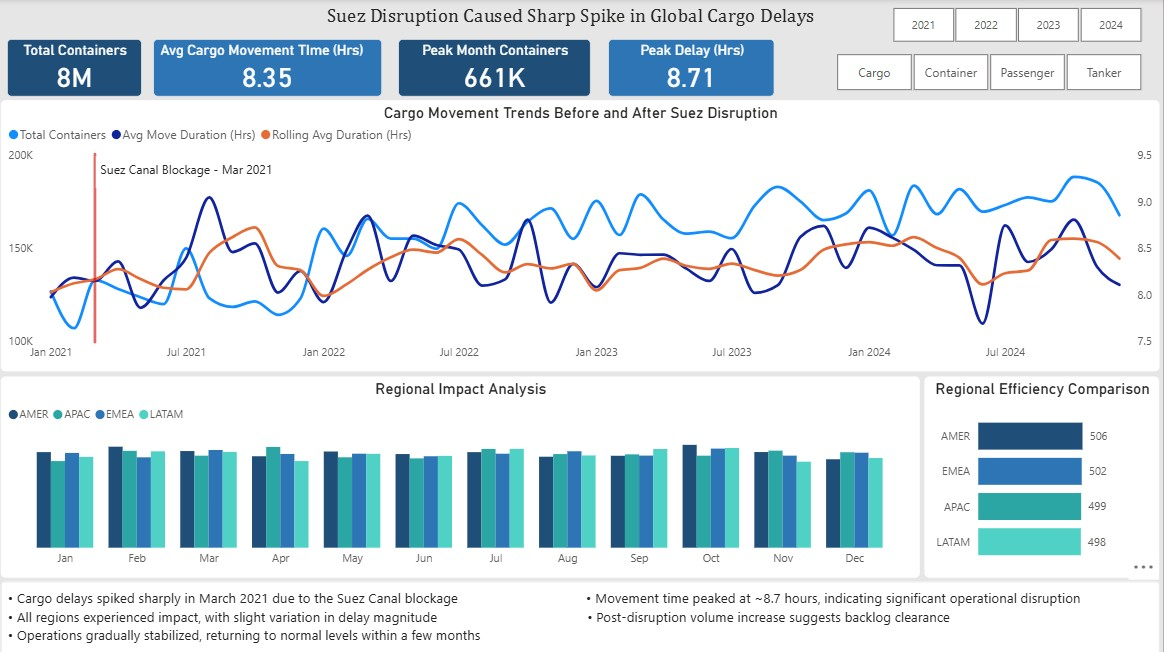

This screenshot's page, from the dashboard's own definition file:
{"tool":"powerbi","page":{"name":"Suez Disruption & Operational Trends","canvas":[1280,720],"ordinal":0},"visuals":[{"type":"card","title":"Total Containers","fields":{"Values":["fact_cargo_movements.Total Containers"]},"box":[11.3,43.9,148.2,63.1],"z":0},{"type":"card","title":"Avg Cargo Movement TIme (Hrs)","fields":{"Values":["fact_cargo_movements.Avg Move Duration (Hrs)"]},"box":[171.8,44.3,251.1,63.1],"z":1000},{"type":"card","title":"Peak Month Containers","fields":{"Values":["fact_cargo_movements.Peak Containers"]},"box":[440.8,44.3,211.3,63.1],"z":2000},{"type":"card","title":"Peak Delay (Hrs)","fields":{"Values":["fact_cargo_movements.Worst Duration (Hrs)"]},"box":[671.3,44.3,182.5,63.1],"z":3000},{"type":"lineChart","title":"Cargo Movement Trends Before and After Suez Disruption","fields":{"Y":["fact_cargo_movements.Total Containers"],"Y2":["fact_cargo_movements.Avg Move Duration (Hrs)","fact_cargo_movements.Rolling Avg Duration (Hrs)"],"Category":["dim_time.date_id.Variation.Date Hierarchy.Year","dim_time.date_id.Variation.Date Hierarchy.Month"]},"box":[4.1,111.1,1272,297.8],"z":4000},{"type":"clusteredColumnChart","title":"Regional Impact Analysis","fields":{"Category":["dim_time.Month Name"],"Series":["dim_terminal.regional_hub"],"Y":["fact_cargo_movements.Avg Move Duration (Hrs)"]},"box":[4.1,414,1008.6,220.9],"z":5000},{"type":"barChart","title":"Regional Efficiency Comparison","fields":{"Category":["dim_terminal.regional_hub"],"Y":["fact_cargo_movements.Avg Move Duration"]},"box":[1018.2,414,258,220.9],"z":6000},{"type":"textbox","box":[356.8,0,564,38.4],"z":7000},{"type":"textbox","box":[108.4,172.9,216.8,34.3],"z":8000},{"type":"textbox","box":[4.1,639.5,1272,81],"z":9000},{"type":"slicer","fields":{"Values":["dim_time.fiscal_year"]},"box":[957.8,2.7,322.5,50.8],"z":10000},{"type":"slicer","fields":{"Values":["dim_vessel.vessel_category"]},"box":[895.8,53.5,384.2,53.5],"z":11000}]}

Visuals, with their boxes in screenshot pixels (x1, y1, x2, y2), scaled from the page's 1280x720 canvas onto the 1164x652 screenshot:
"Total Containers" card: left=10, top=40, right=145, bottom=97
"Avg Cargo Movement TIme (Hrs)" card: left=156, top=40, right=385, bottom=97
"Peak Month Containers" card: left=401, top=40, right=593, bottom=97
"Peak Delay (Hrs)" card: left=610, top=40, right=776, bottom=97
"Cargo Movement Trends Before and After Suez Disruption" lineChart: left=4, top=101, right=1160, bottom=370
"Regional Impact Analysis" clusteredColumnChart: left=4, top=375, right=921, bottom=575
"Regional Efficiency Comparison" barChart: left=926, top=375, right=1161, bottom=575
textbox: left=324, top=0, right=837, bottom=35
textbox: left=99, top=157, right=296, bottom=188
textbox: left=4, top=579, right=1160, bottom=651
slicer - dim_time.fiscal_year: left=871, top=2, right=1163, bottom=48
slicer - dim_vessel.vessel_category: left=815, top=48, right=1163, bottom=97
